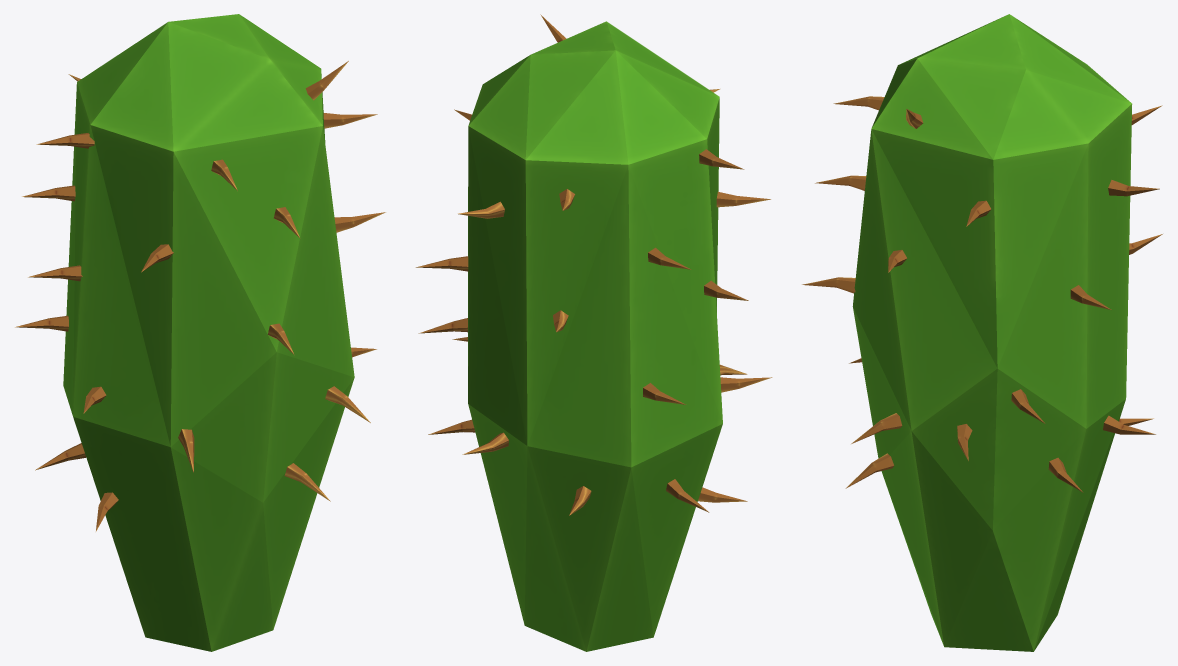
Rendered from Cactus_26.fbx.
The picture shows the model from 3 angles, left to right: view 1: azimuth 30°, elevation 25°; view 2: azimuth 150°, elevation 25°; view 3: azimuth 270°, elevation 25°; orthographic projection. The views are drawn at different scales.
Visible parts, largest first — view 1: Cactus_26; view 2: Cactus_26; view 3: Cactus_26.
Part boxes in pixels (x1,y1,x2,y2): Cactus_26: [15, 14, 385, 651]; Cactus_26: [415, 14, 772, 651]; Cactus_26: [802, 14, 1162, 651].
Bounding box in the file's own units: 18.18 × 31.89 × 17.5.
